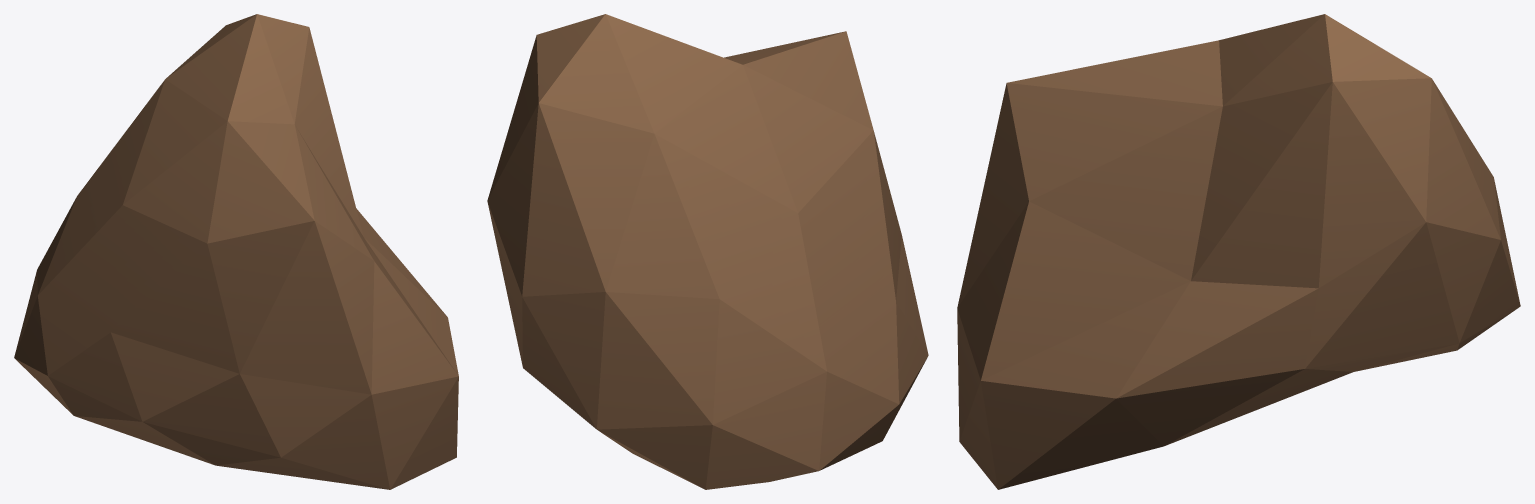
File: stone_e.fbx
3 renders of one model, left to right at view 1: azimuth 30°, elevation 25°; view 2: azimuth 150°, elevation 25°; view 3: azimuth 270°, elevation 25°, orthographic. The views are drawn at different scales.
Visible parts, largest first — view 1: Icosphere.013; view 2: Icosphere.013; view 3: Icosphere.013.
Boxes of the visible parts, x1=… form: Icosphere.013: x1=14, y1=14, x2=458, y2=489; Icosphere.013: x1=487, y1=14, x2=928, y2=489; Icosphere.013: x1=957, y1=14, x2=1520, y2=489.
Size of the model in its own units: 1.04 by 1.09 by 1.25.
Materials: 1 (1 with a texture image).
